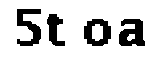5: (12, 5, 44, 48)
a: (117, 15, 150, 53)
o: (80, 15, 116, 49)
t: (44, 9, 70, 49)
